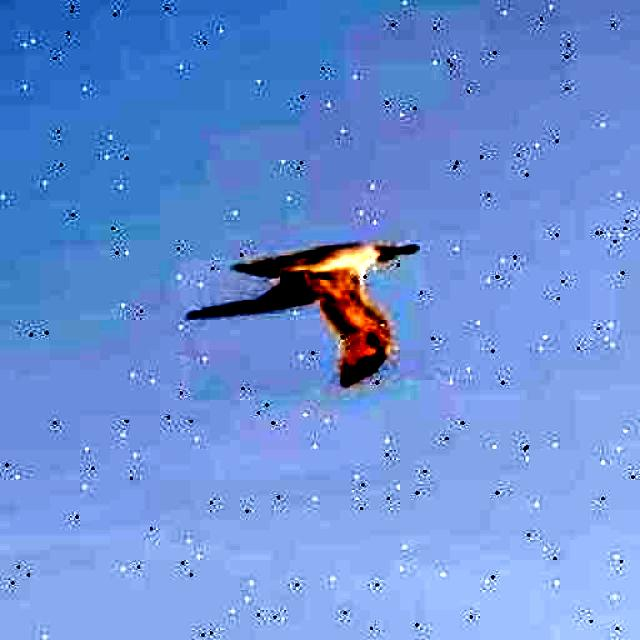airplane: (178, 235, 435, 401)
